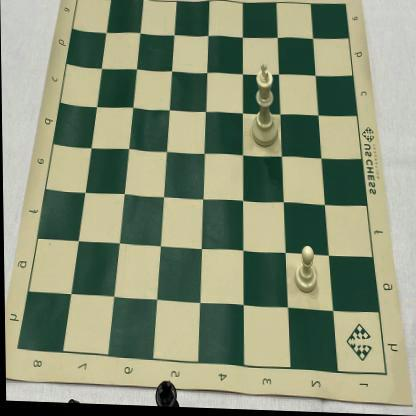white-king: (249, 60, 281, 151)
white-pawn: (290, 240, 321, 299)
